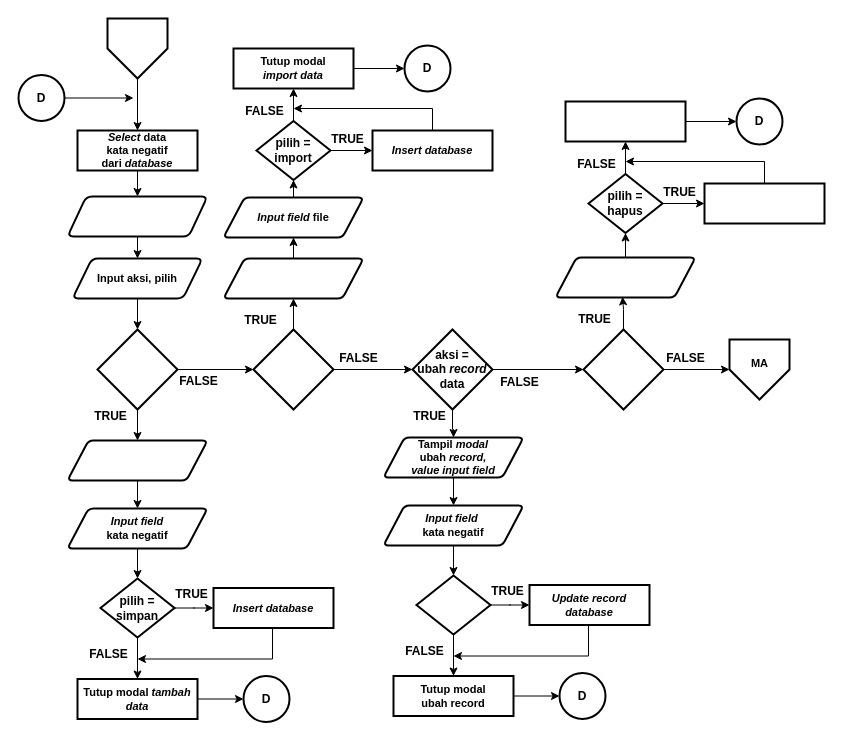
This 842x740 diagram has some shape labels left out. Each missing label, with the centre of its shape:
aksi = hapus record data: [623,369]
aksi = import data: [293,369]
aksi = tambah data: [137,369]
Delete record database: [764,203]
KN: [137,48]
pilih = ubah: [453,604]
Tampil modal hapus record: [625,277]
Tampil modal import data: [293,278]
Tampil modal tambah data: [137,460]
Tampilkan halaman kata negatif: [137,216]
Tutup modal hapus record: [625,121]
